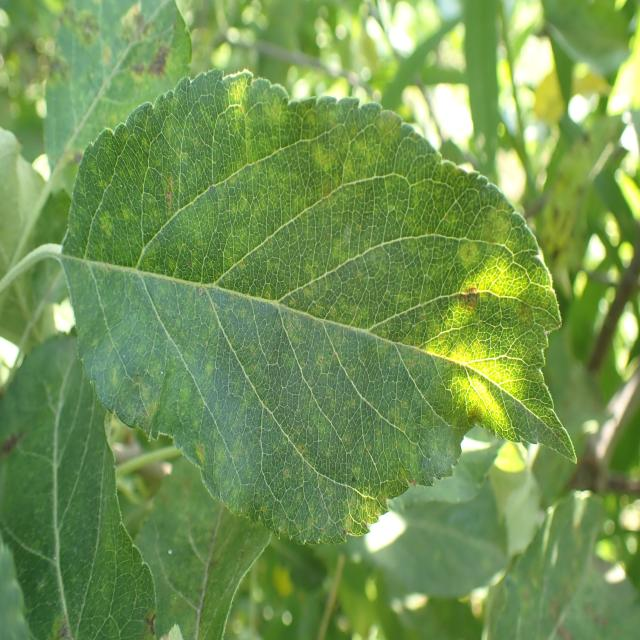scab: (123, 127, 536, 452), (44, 0, 184, 167)
